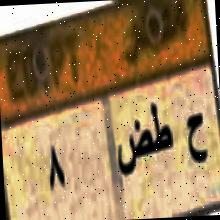7aa: (183, 100, 208, 168)
8: (44, 139, 68, 194)
Taa: (148, 100, 174, 156)
daad: (113, 116, 152, 176)
